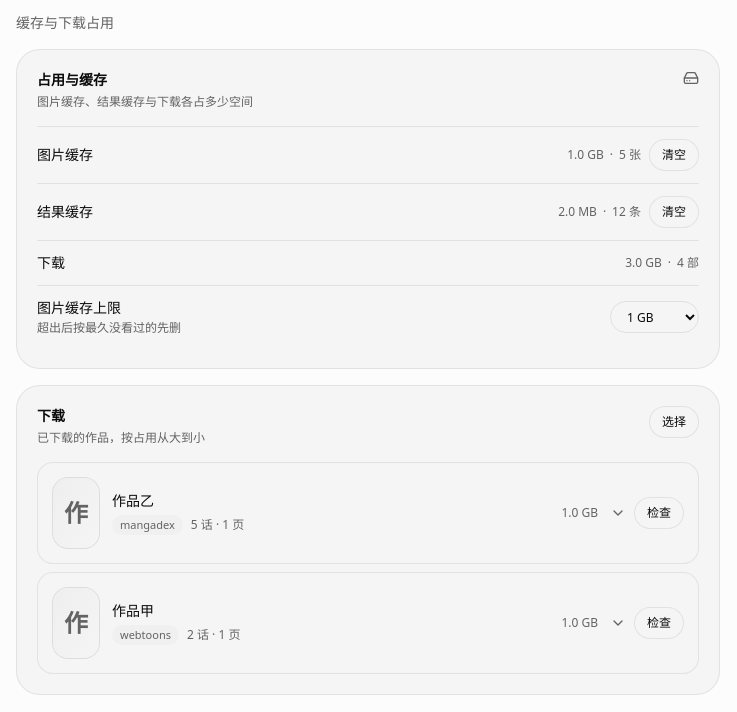
Test: 存储页的批量删除 › 删除所选：确认框给出部数与将释放的字节数，逐部删除并刷新列表与占用
The image size is (737, 712).
Check: the text "作品甲" is shown, box [112, 601, 154, 620]
Click the button "选择": [674, 422] box [649, 406, 699, 438]
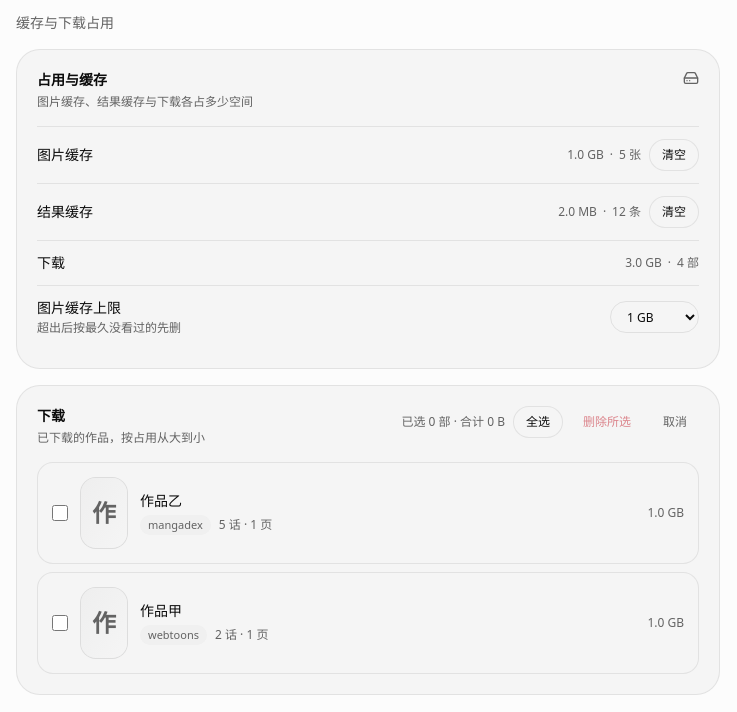
Click the button "全选": [538, 422] box [513, 406, 563, 438]
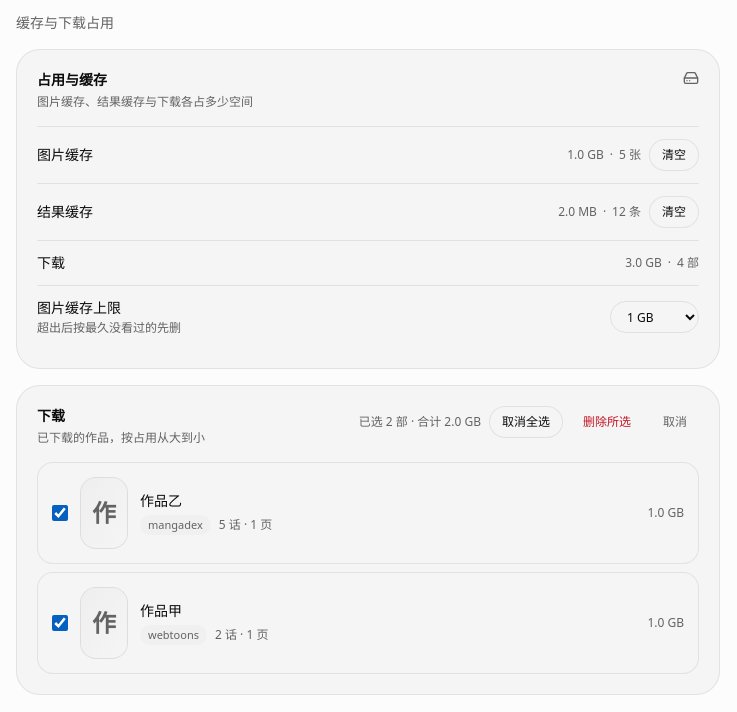
Click the button "删除所选": [607, 422] box [571, 406, 643, 438]
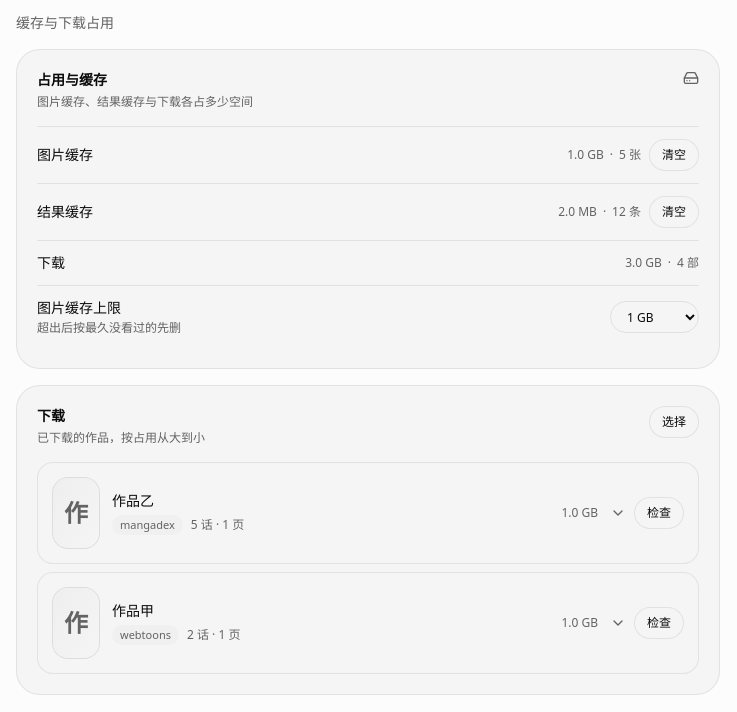
Check: no checkboxes are shown
